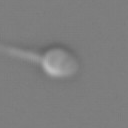normal: (1, 38, 44, 66)
